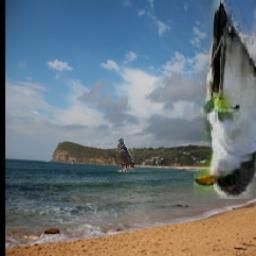Crow: (117, 137, 135, 172)
Cuckoo: (194, 1, 256, 200)
